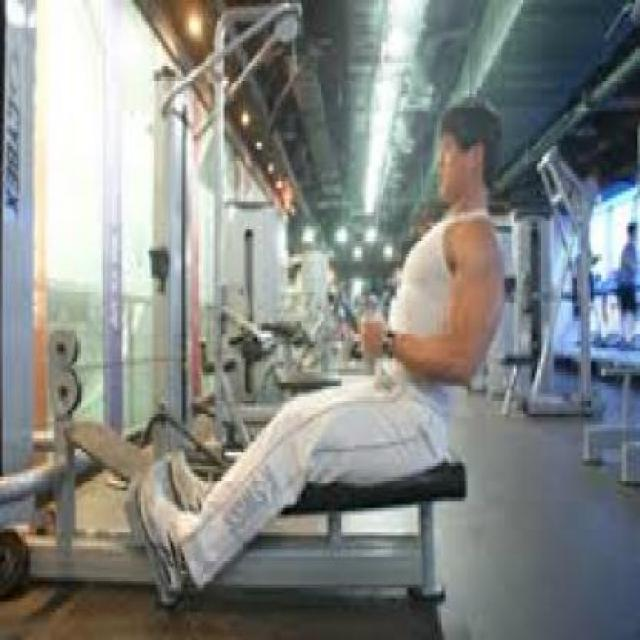Seated Cable Rows: (4, 0, 504, 640)
